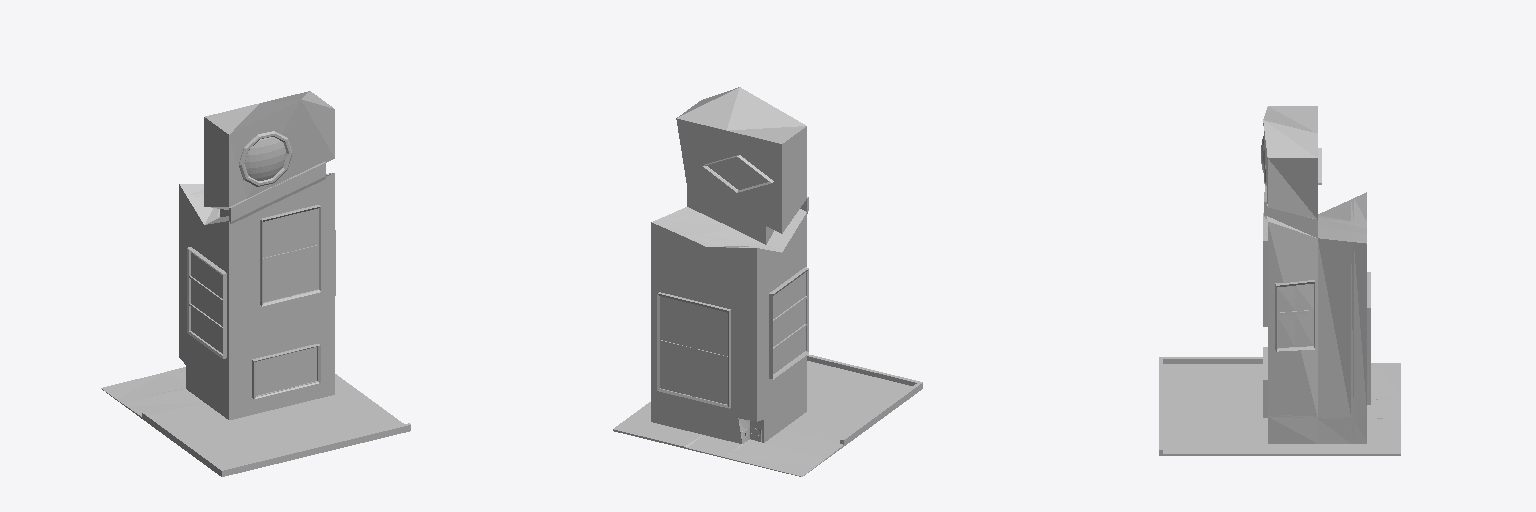
File: skyscraper2.obj
3 renders of one model, left to right at view 1: azimuth 30°, elevation 25°; view 2: azimuth 150°, elevation 25°; view 3: azimuth 270°, elevation 25°, orthographic.
Parts seen in each view (by area): view 1: Cube; view 2: Cube; view 3: Cube.
Boxes of the visible parts, box(x1,y1,x2,y2) form: Cube: box(101, 91, 410, 476); Cube: box(613, 87, 922, 476); Cube: box(1159, 106, 1400, 455).
Size of the model in its own units: 11.79 by 18.29 by 13.05.